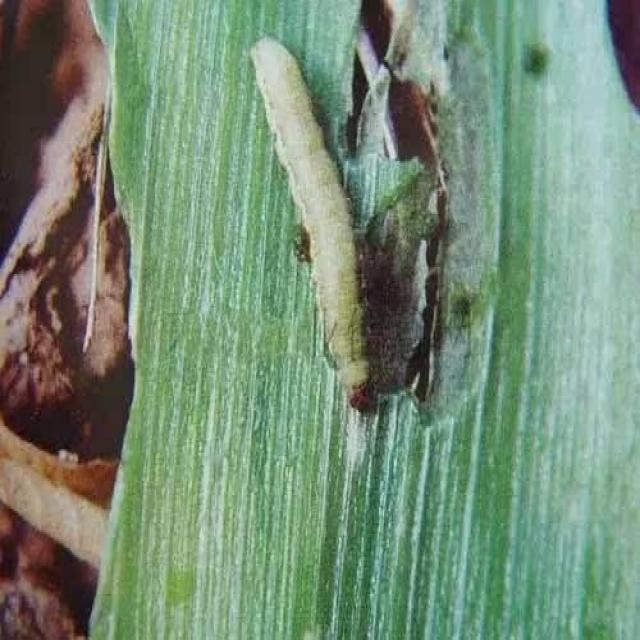BeetArmyWorm-Larva-: (242, 24, 378, 408)
